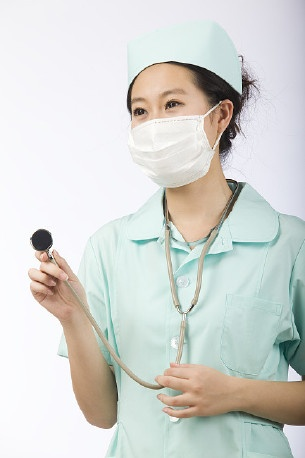Mask: (123, 88, 217, 181)
